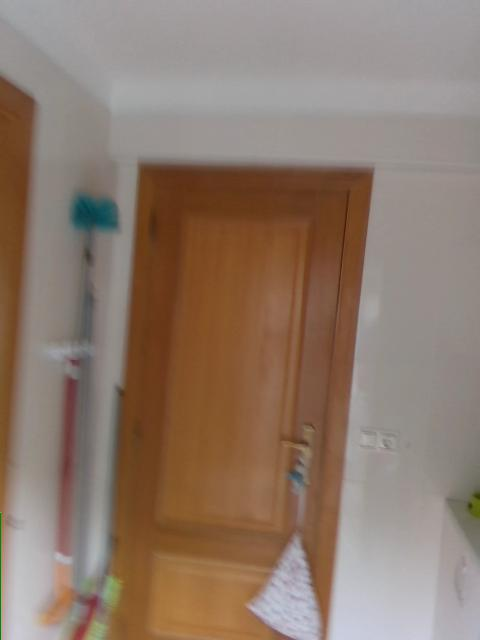door: (101, 163, 377, 639)
